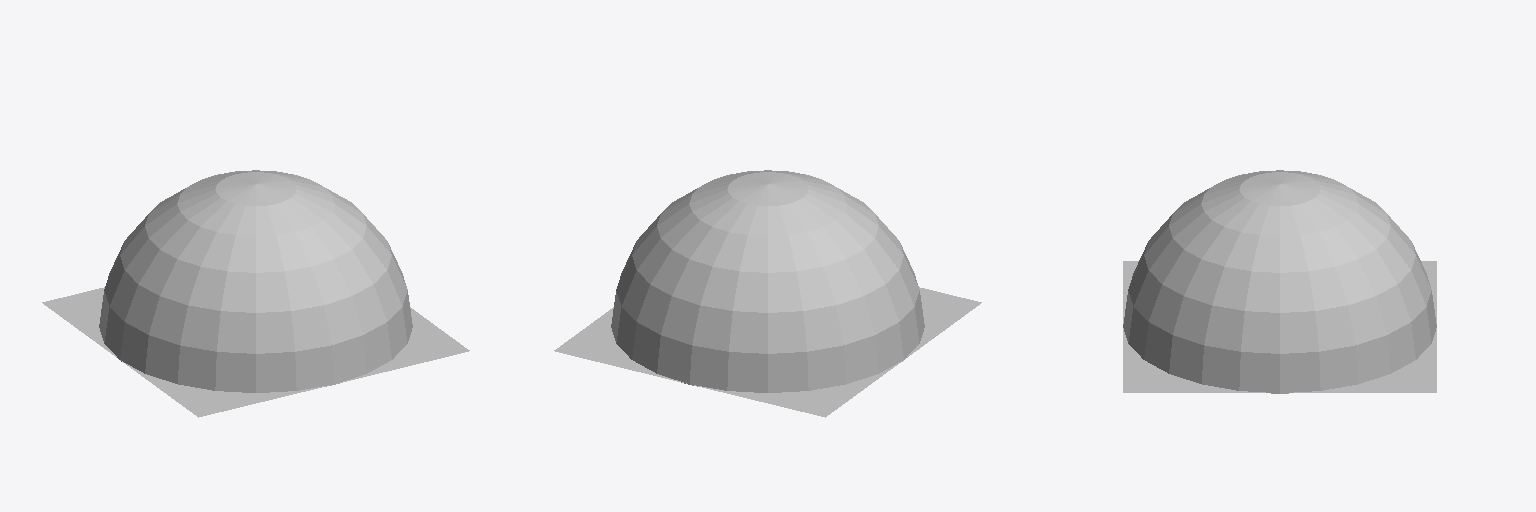
Rendered from Cartoon_House.obj.
3 renders of one model, left to right at view 1: azimuth 30°, elevation 25°; view 2: azimuth 150°, elevation 25°; view 3: azimuth 270°, elevation 25°, orthographic.
Parts seen in each view (by area): view 1: Sphere, Plane; view 2: Sphere, Plane; view 3: Sphere, Plane.
Part boxes in pixels (bbox=[...]): Sphere: bbox=[99, 170, 412, 392]; Plane: bbox=[42, 287, 469, 417]; Sphere: bbox=[611, 170, 924, 392]; Plane: bbox=[554, 287, 981, 417]; Sphere: bbox=[1123, 170, 1436, 393]; Plane: bbox=[1123, 261, 1436, 392].
Size of the model in its own units: 82451 by 41483 by 82451.